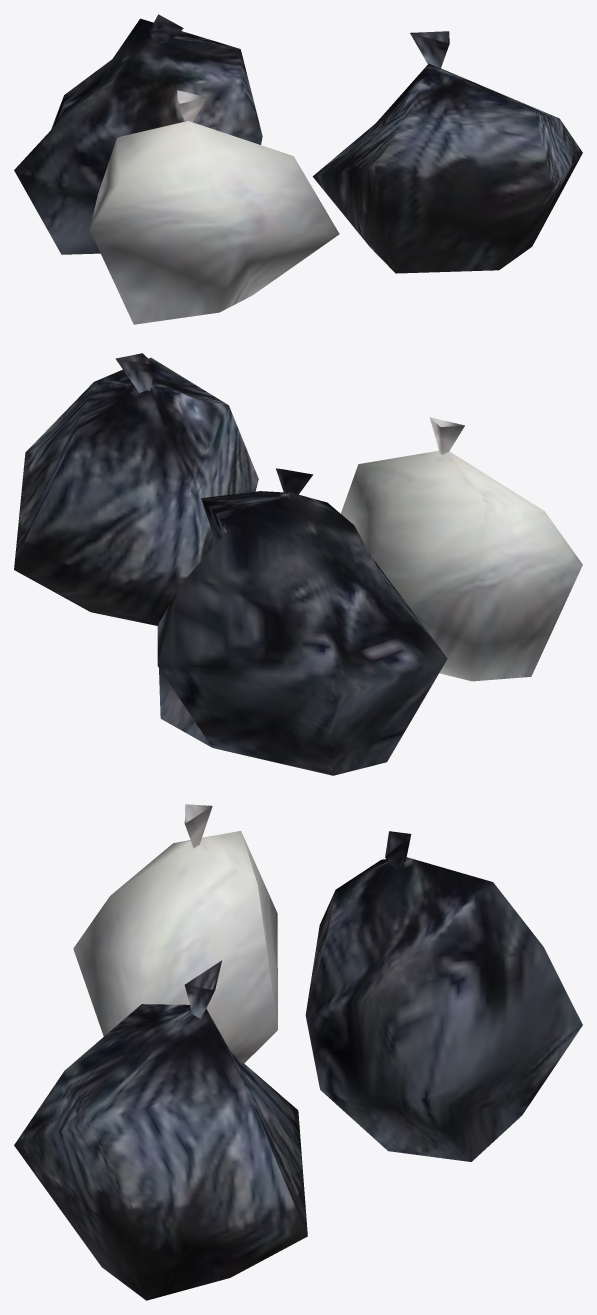
File: BolsaBasura1.fbx
3 views of the same model, one above another, from view 1: azimuth 30°, elevation 25°; view 2: azimuth 150°, elevation 25°; view 3: azimuth 270°, elevation 25° (orthographic). The views are drawn at different scales.
Visible parts, largest first — view 1: Bolsa_Basura; view 2: Bolsa_Basura; view 3: Bolsa_Basura.
Boxes of the visible parts, x1,y1,x2,y2 form: Bolsa_Basura: (14, 14, 582, 324); Bolsa_Basura: (14, 353, 582, 775); Bolsa_Basura: (14, 804, 582, 1300).
Size of the model in its own units: 1.92 by 1.5 by 0.8656.
1 material, 1 textured.
